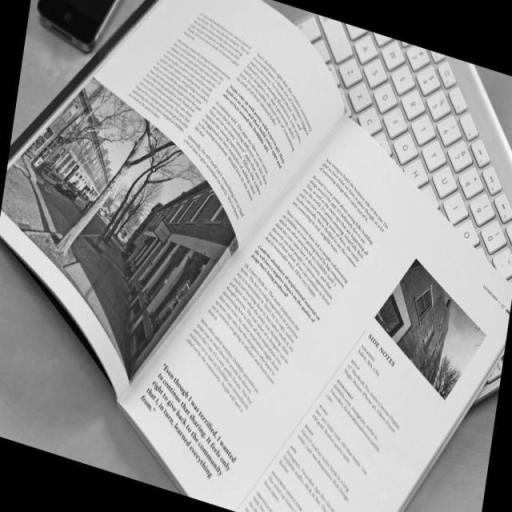phone: (32, 0, 129, 61)
